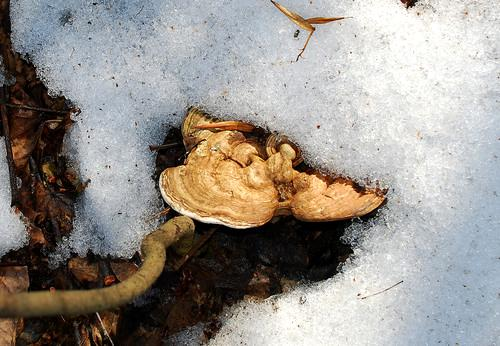Ganoderma - Fruit Body: (159, 106, 380, 230)
